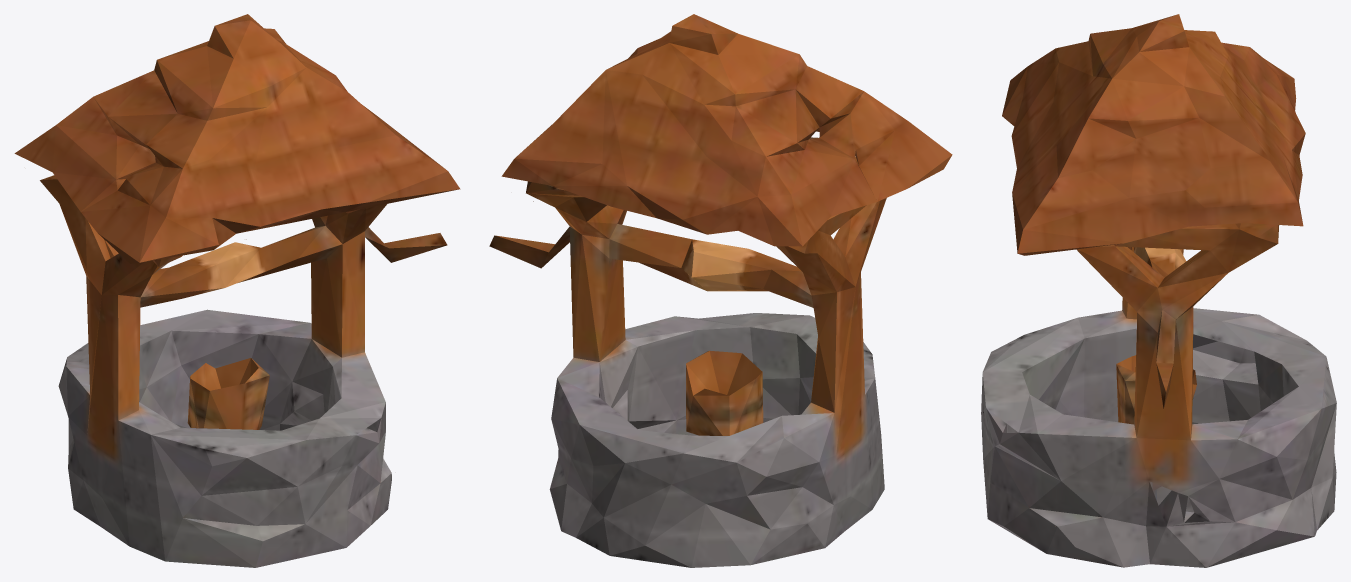
File: well.glb
The picture shows the model from 3 angles, left to right: view 1: azimuth 30°, elevation 25°; view 2: azimuth 150°, elevation 25°; view 3: azimuth 270°, elevation 25°; orthographic projection. The views are drawn at different scales.
Parts seen in each view (by area): view 1: well; view 2: well; view 3: well.
Boxes of the visible parts, x1=… form: well: x1=14, y1=14, x2=460, y2=567; well: x1=489, y1=14, x2=952, y2=567; well: x1=981, y1=14, x2=1336, y2=567.
Bounding box in the file's own units: 2.4 × 2.82 × 1.85.
Materials: 1 (1 with a texture image).
